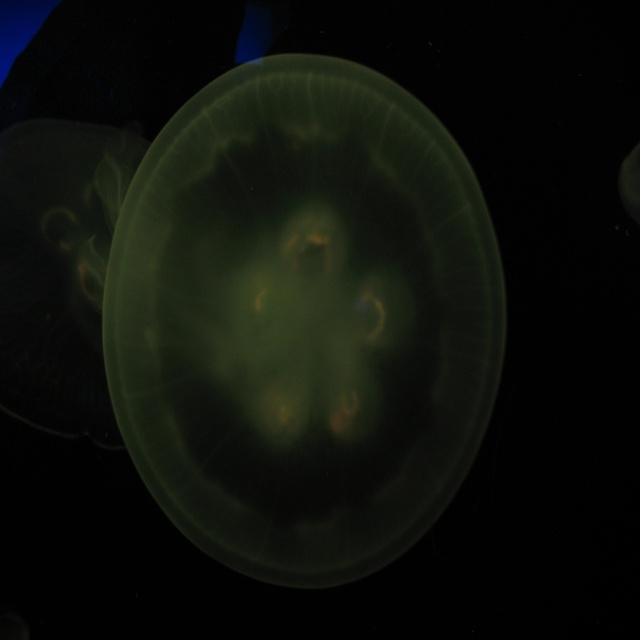Jellyfish: (117, 20, 527, 578)
